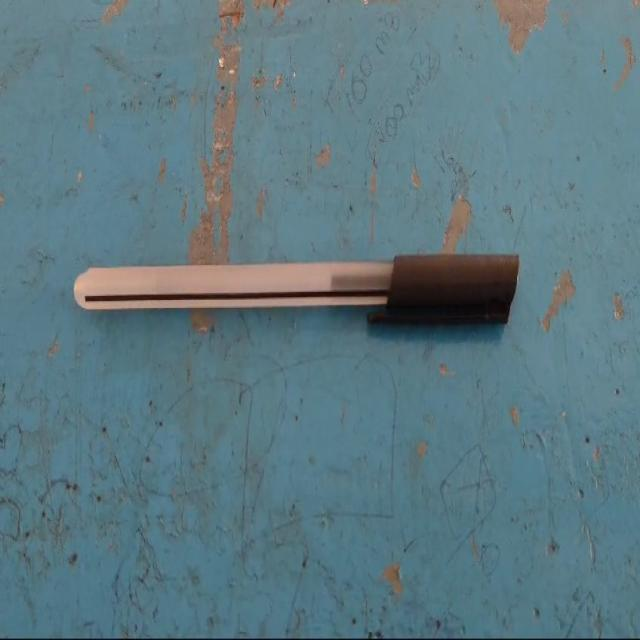pen: (54, 218, 532, 386)
